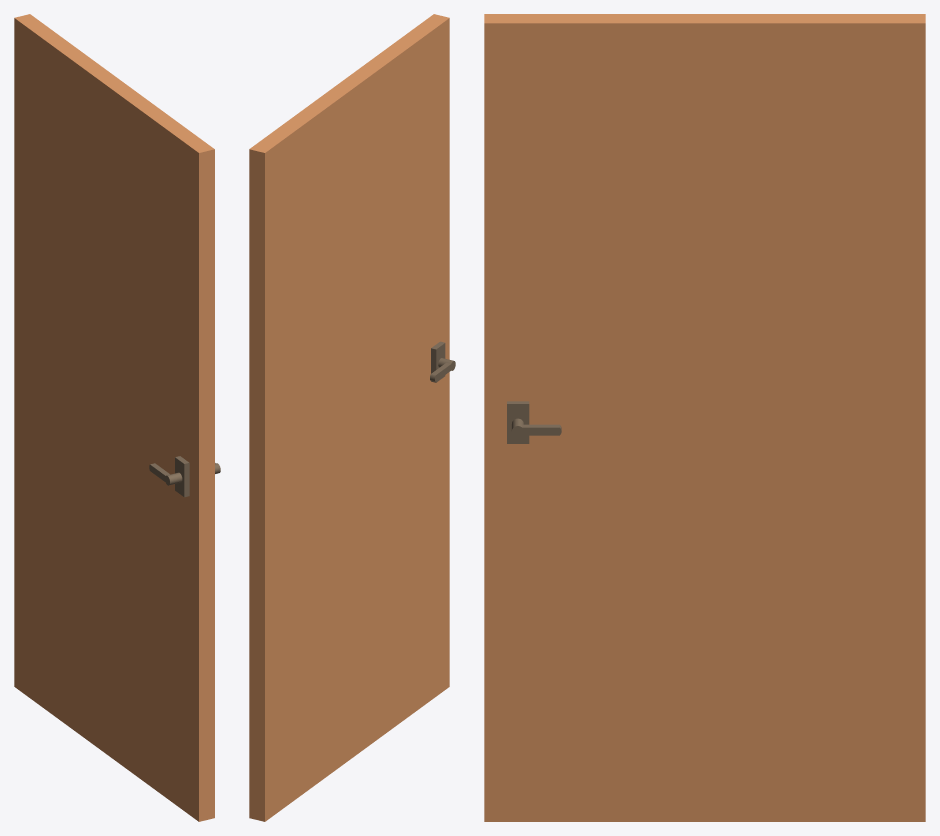
File: Door.fbx
3 views of the same model, side by side, from view 1: azimuth 30°, elevation 25°; view 2: azimuth 150°, elevation 25°; view 3: azimuth 270°, elevation 25° (orthographic). The views are drawn at different scales.
Parts seen in each view (by area): view 1: Cube.001, Cube, Cylinder.001; view 2: Cube.001; view 3: Cube.001.
Part boxes in pixels (x1,y1,x2,y2): Cube.001: (14, 14, 214, 821); Cube: (175, 456, 189, 497); Cylinder.001: (149, 463, 220, 485); Cube.001: (249, 14, 449, 821); Cube.001: (484, 14, 925, 821).
Bounding box in the file's own units: 318 × 4013 × 2009.
